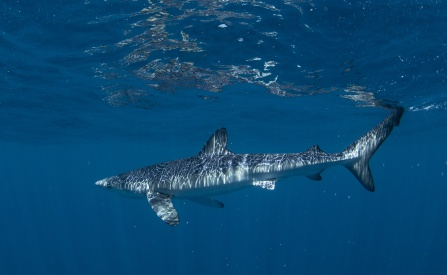Azul: (86, 94, 408, 230)
